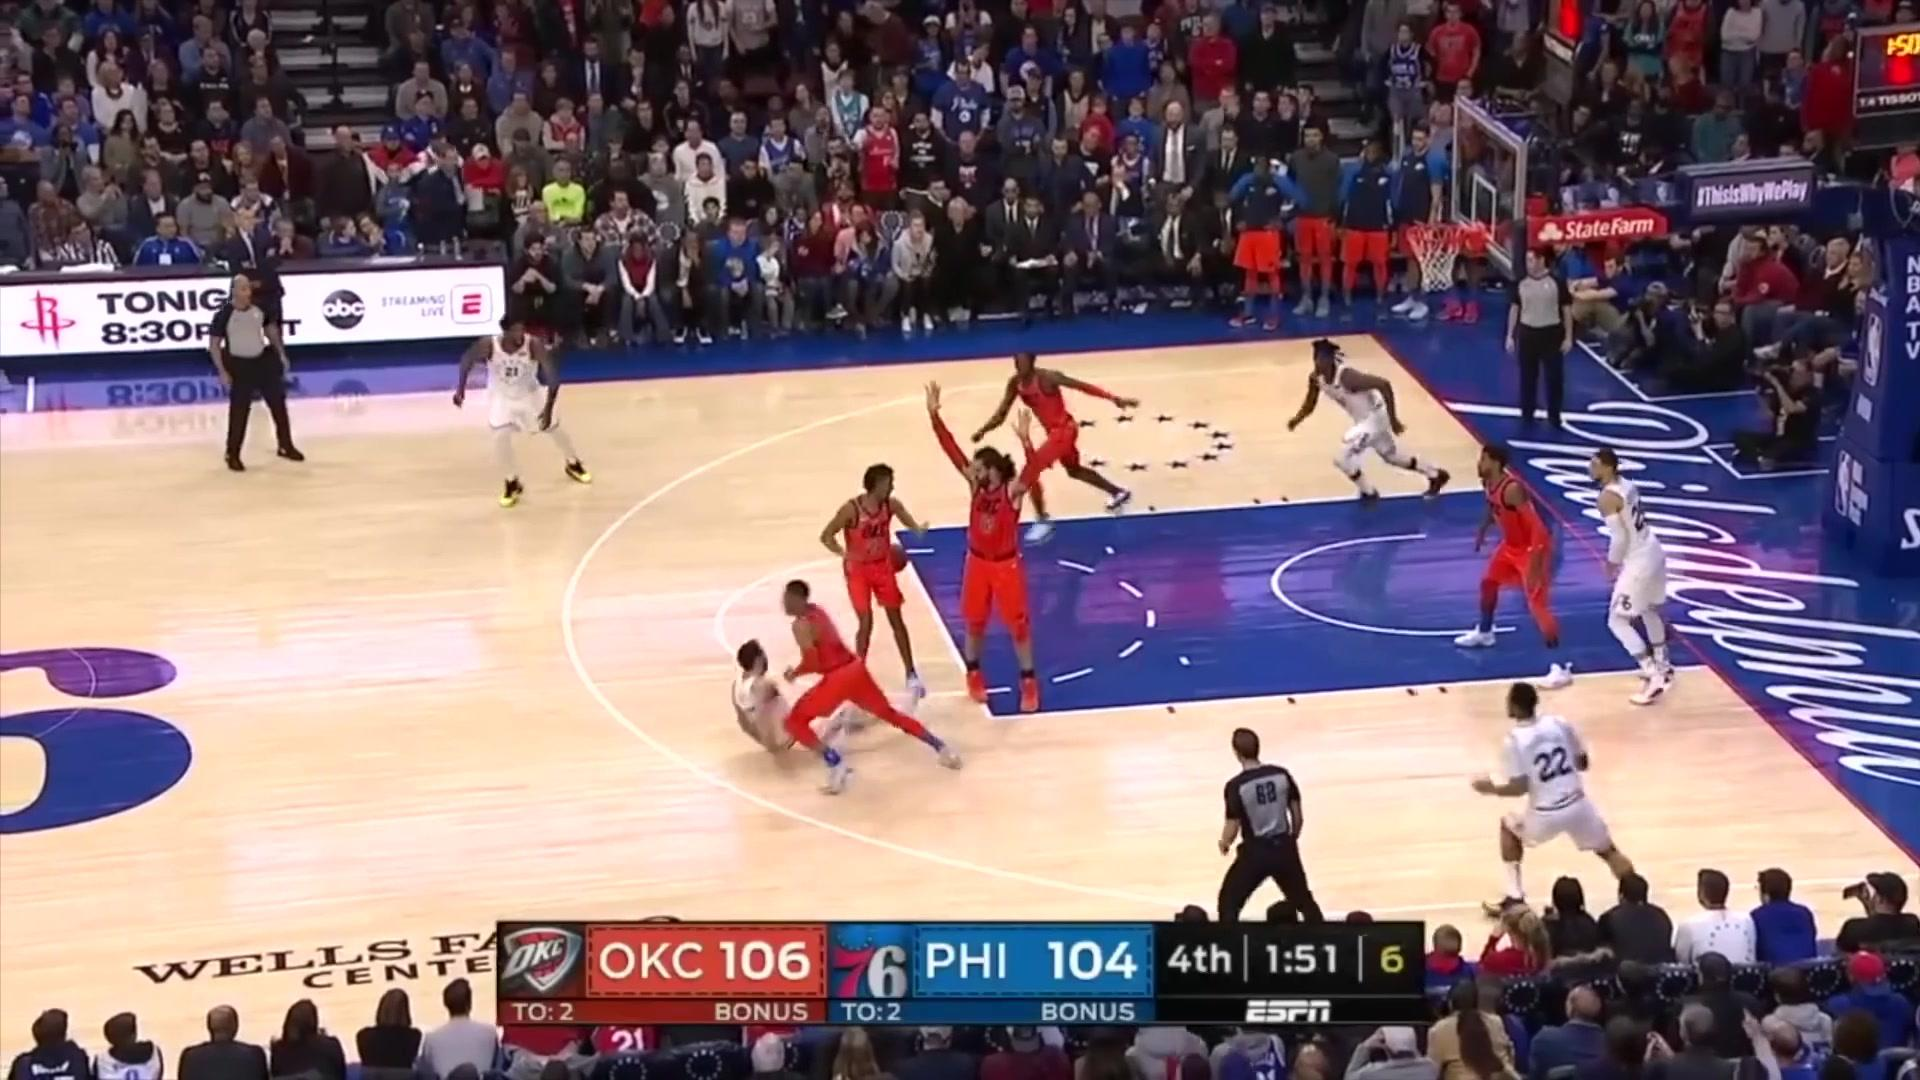foul: (695, 543, 997, 818)
